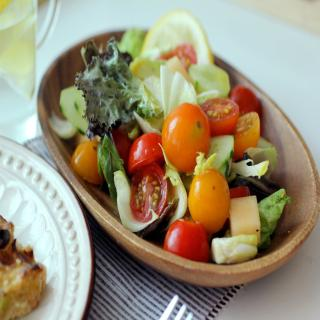tomato: (161, 100, 210, 171), (188, 168, 230, 233), (162, 216, 210, 263), (199, 95, 239, 135), (128, 132, 164, 172), (233, 110, 260, 158), (229, 83, 261, 121), (71, 142, 98, 184)
